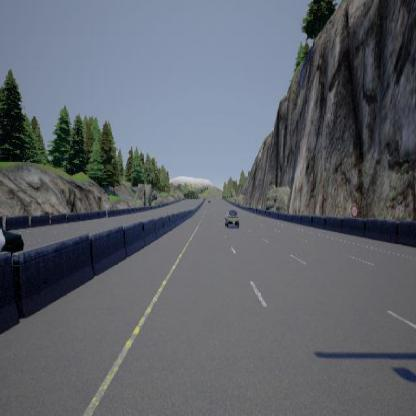vehicle: (0, 226, 24, 256), (224, 209, 239, 227)
